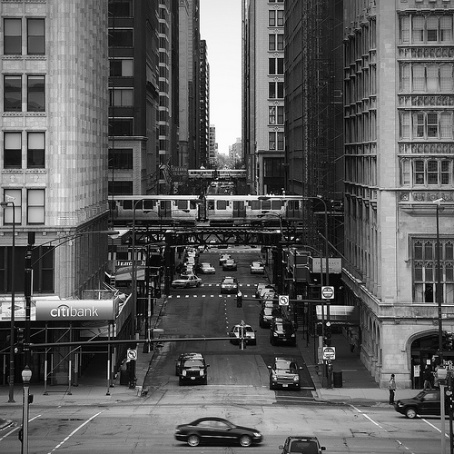bridge: (95, 192, 299, 261), (185, 159, 252, 188)
building: (341, 1, 454, 380), (1, 1, 109, 378), (287, 8, 339, 293), (105, 1, 164, 228), (168, 1, 215, 179), (240, 1, 285, 170)
car: (174, 412, 265, 450), (266, 350, 306, 394), (172, 346, 209, 385), (265, 317, 300, 347), (228, 315, 258, 349)
sidewalk: (1, 374, 137, 406), (317, 375, 453, 404)
street: (20, 399, 454, 454)
train: (113, 192, 308, 222), (187, 166, 249, 177)
